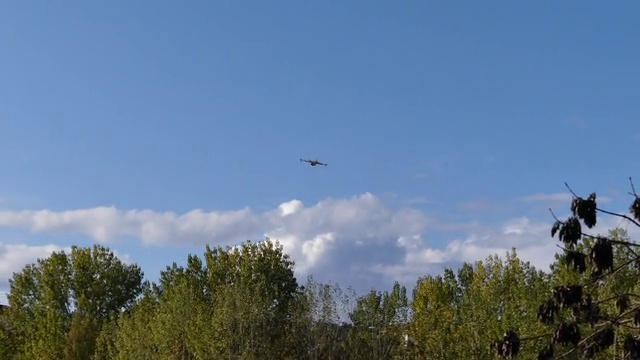plane: (298, 156, 326, 167)
